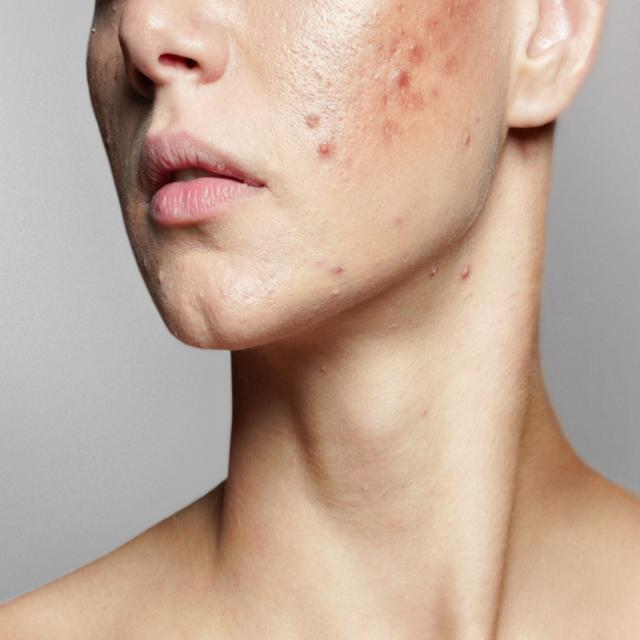Acne: (295, 54, 483, 162)
